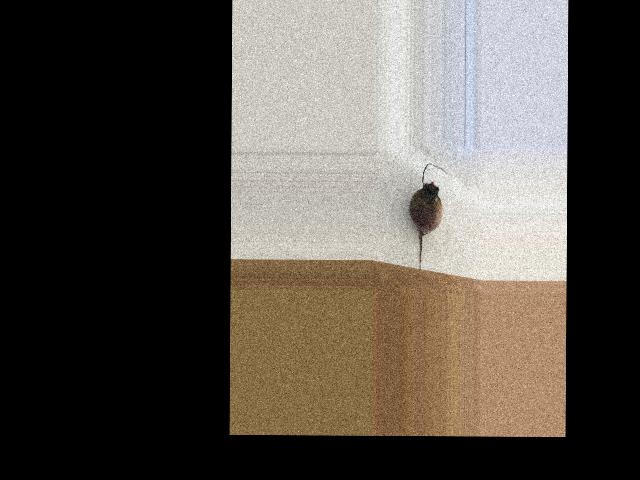beet: (408, 164, 447, 271)
